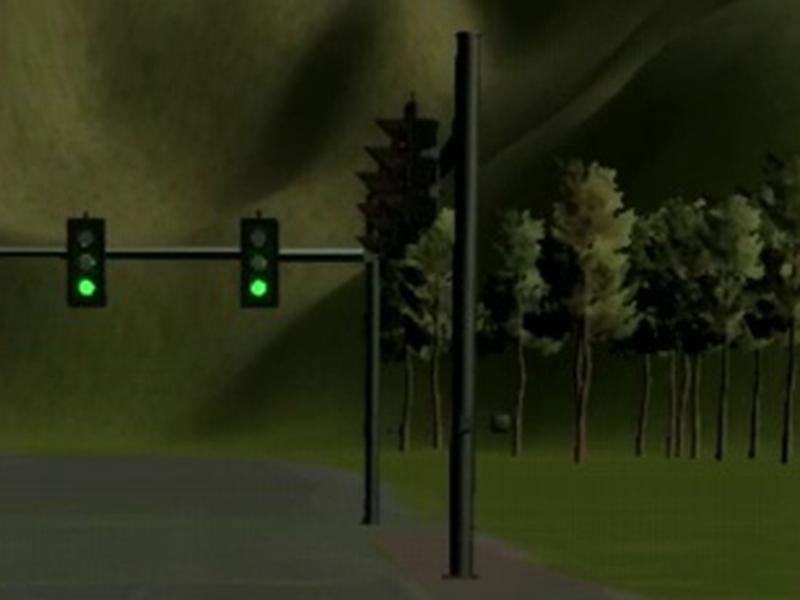Green: (66, 218, 106, 307), (240, 218, 277, 306)
